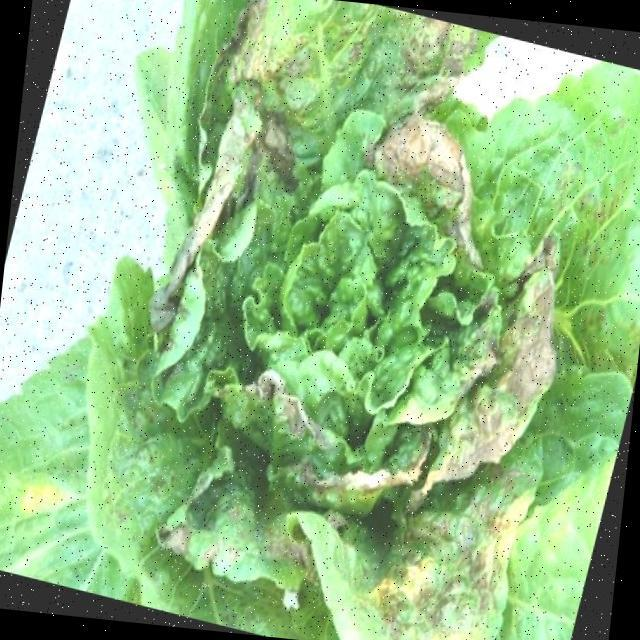Bacterial: (212, 0, 473, 183), (423, 224, 588, 499), (379, 489, 518, 640)
